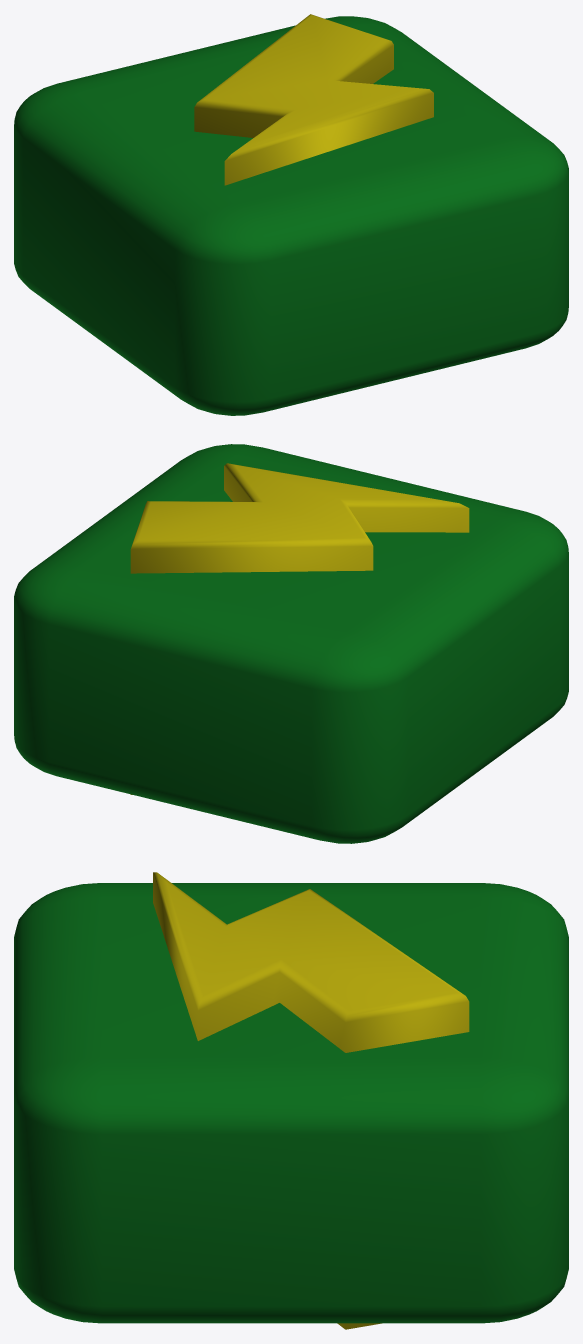
Rendered from powercube.obj.
3 renders of one model, top to bottom at view 1: azimuth 30°, elevation 25°; view 2: azimuth 150°, elevation 25°; view 3: azimuth 270°, elevation 25°, orthographic. The views are drawn at different scales.
Parts seen in each view (by area): view 1: Power_cube; view 2: Power_cube; view 3: Power_cube.
Boxes of the visible parts, x1,y1,x2,y2 form: Power_cube: (14, 14, 568, 415); Power_cube: (14, 444, 568, 843); Power_cube: (14, 872, 568, 1329).
Size of the model in its own units: 2 by 1.25 by 2.
